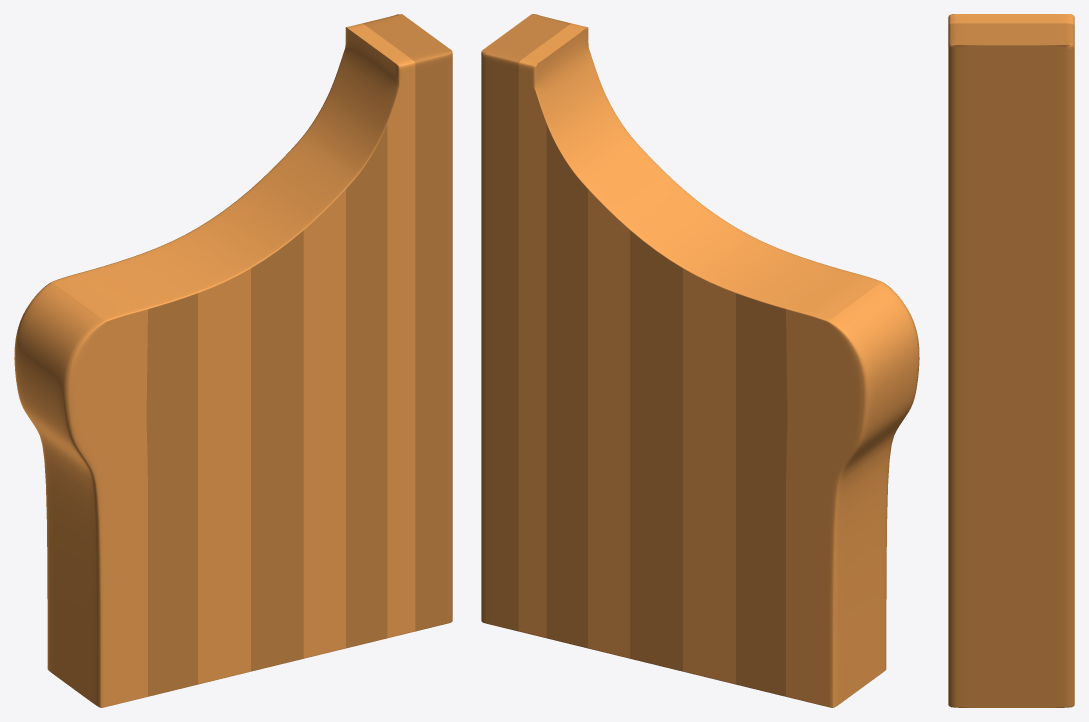
The model's file is parke_alan2.fbx.
3 views of the same model, side by side, from view 1: azimuth 30°, elevation 25°; view 2: azimuth 150°, elevation 25°; view 3: azimuth 270°, elevation 25° (orthographic). The views are drawn at different scales.
Parts seen in each view (by area): view 1: Right_obje.001; view 2: Right_obje.001; view 3: Right_obje.001.
Part boxes in pixels (x1,y1,x2,y2): Right_obje.001: [14, 14, 452, 707]; Right_obje.001: [481, 14, 919, 707]; Right_obje.001: [948, 14, 1074, 707].
Size of the model in its own units: 235 by 330 by 57.16.
